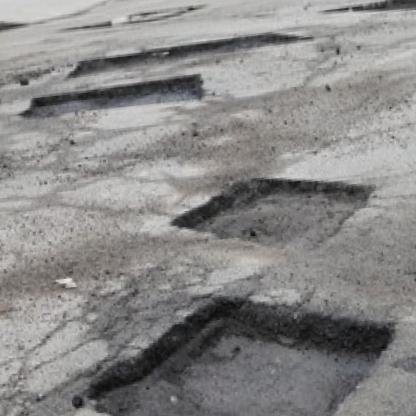pothole: (80, 272, 408, 416), (169, 161, 382, 266), (63, 26, 313, 79), (18, 70, 211, 122), (320, 0, 416, 20)
